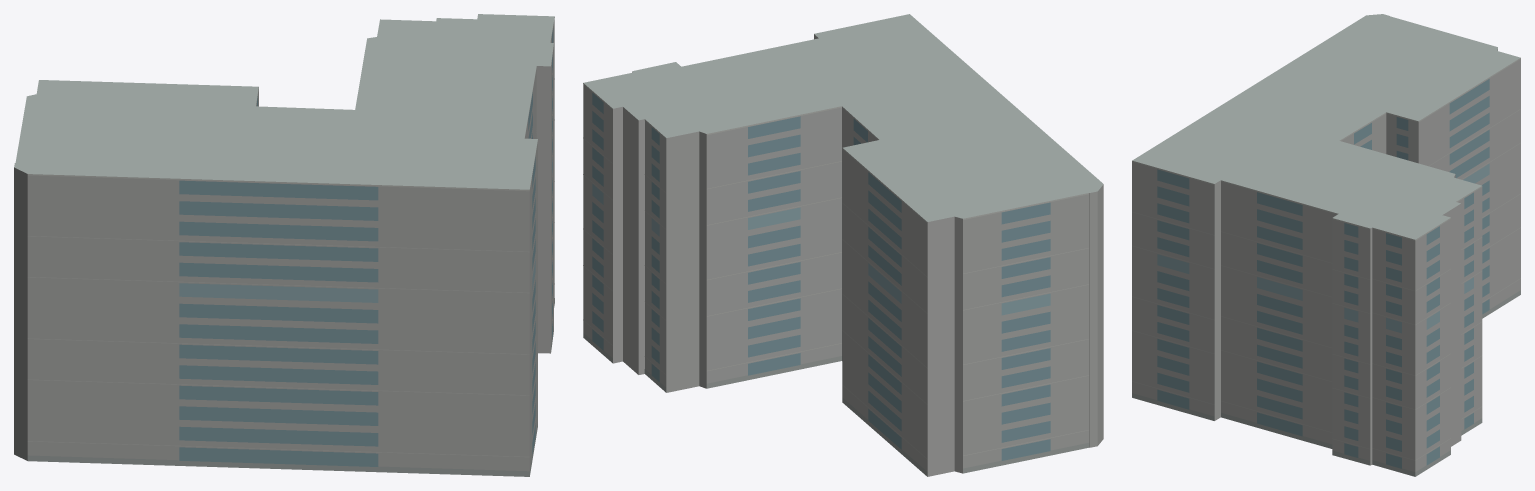
File: survey-upis-32732840.glb
3 views of the same model, side by side, from view 1: azimuth 30°, elevation 25°; view 2: azimuth 150°, elevation 25°; view 3: azimuth 270°, elevation 25° (orthographic). The views are drawn at different scales.
Visible parts, largest first — view 1: survey-upis-32732840.tmp; view 2: survey-upis-32732840.tmp; view 3: survey-upis-32732840.tmp.
Boxes of the visible parts, x1,y1,x2,y2 form: survey-upis-32732840.tmp: (14, 14, 554, 476); survey-upis-32732840.tmp: (583, 14, 1103, 476); survey-upis-32732840.tmp: (1132, 14, 1520, 476).
Bounding box in the file's own units: 97.44 × 47.71 × 70.9.
